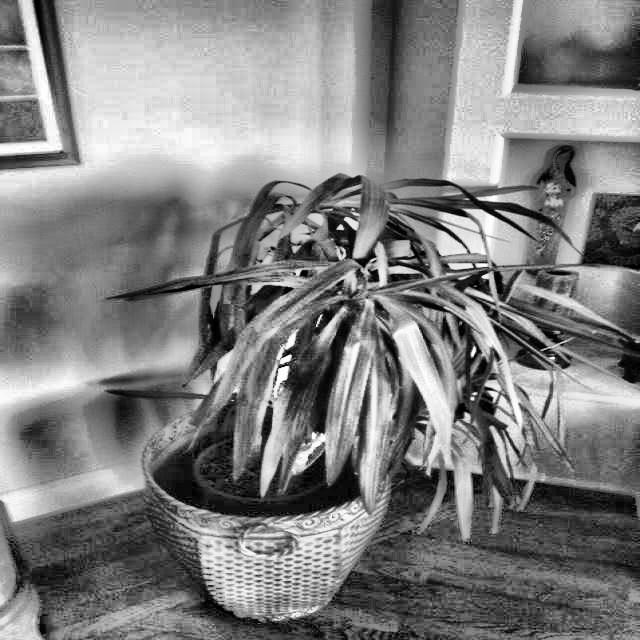plants: (138, 165, 536, 611)
